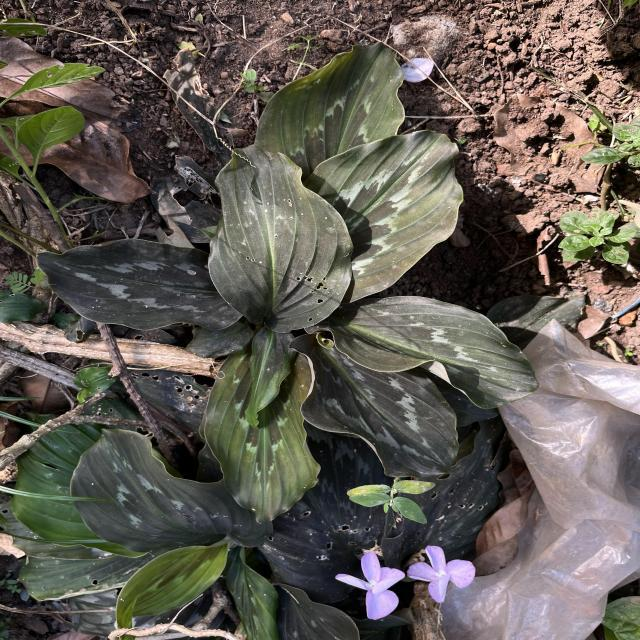Kaempferia galanga linn: (303, 128, 466, 310), (205, 142, 357, 337), (302, 294, 542, 412), (68, 426, 276, 556), (288, 331, 460, 480), (252, 39, 409, 188), (202, 349, 324, 526), (34, 237, 247, 332), (242, 327, 299, 431)
